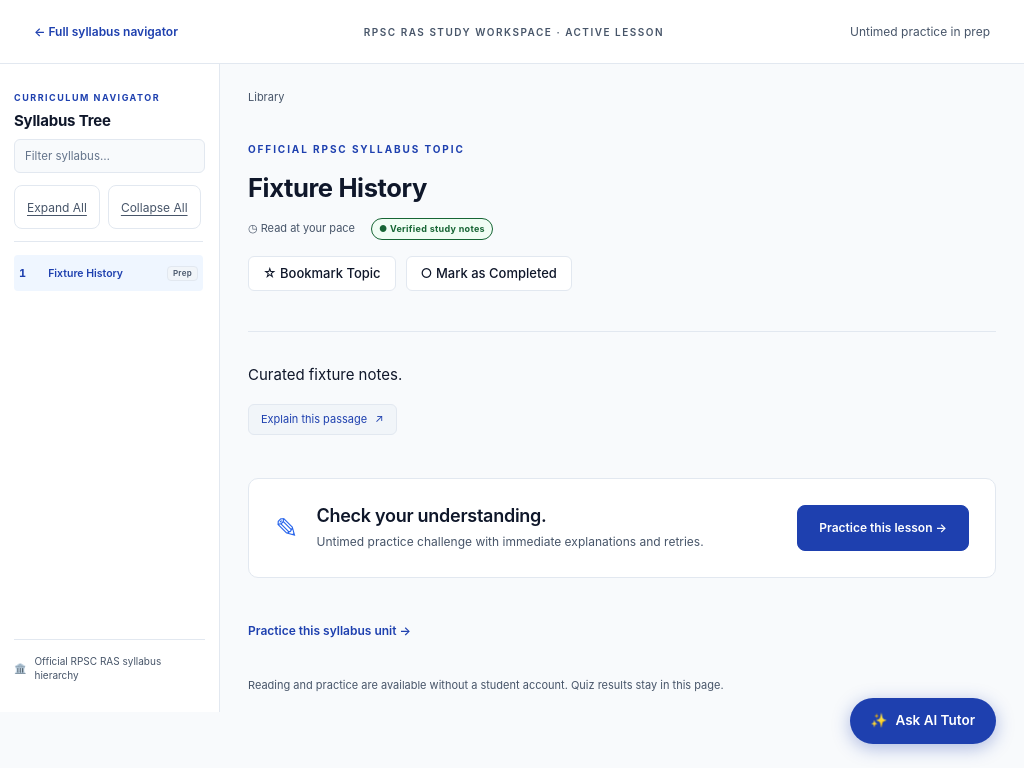
Test: records an explicit visit and changes owned controls only after successful responses
Click the button "☆ Bookmark Topic": [322, 274] box [248,256,396,291]
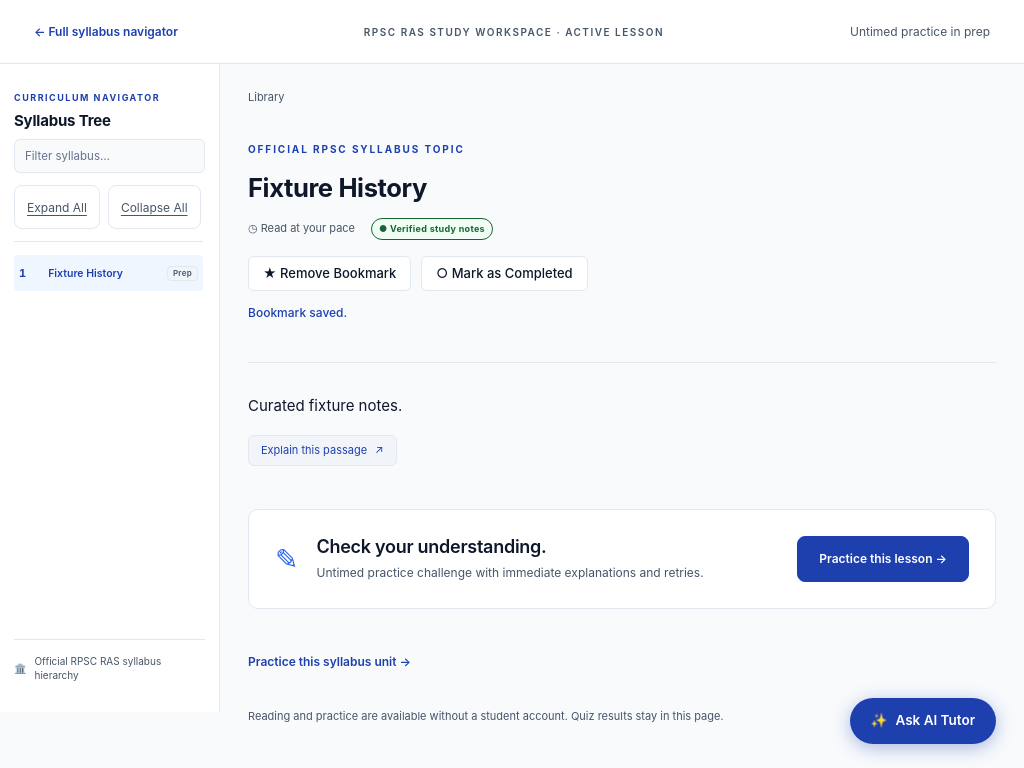
Result: the button "★ Remove Bookmark" is pressed at [248,256,411,291]
Click the button "○ Mark as Completed": [505, 274] box [421,256,588,291]
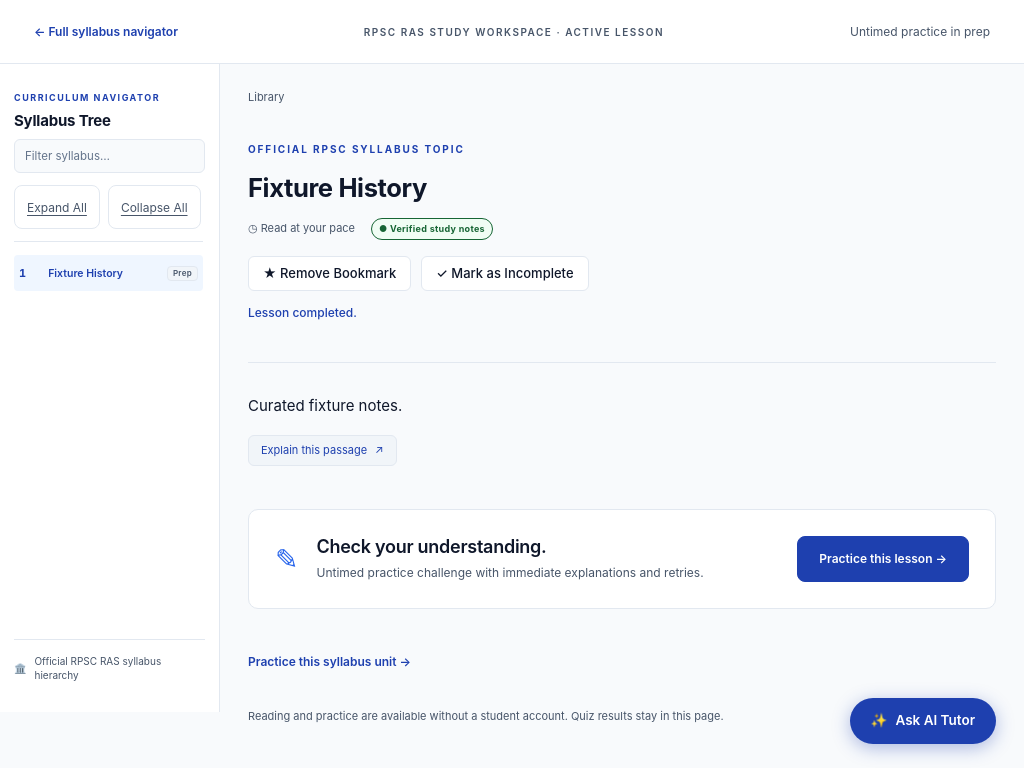
Result: the message reads "Lesson completed." at [248,305,357,320]
